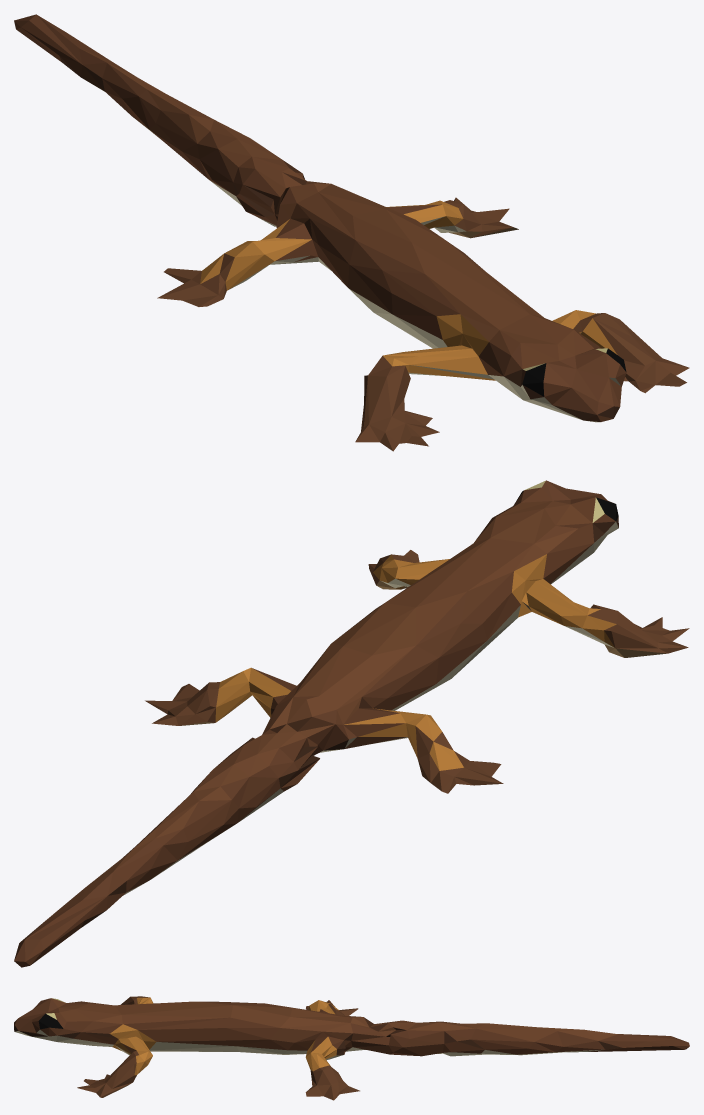
Rendered from ensatina.glb.
The picture shows the model from 3 angles, top to bottom: view 1: azimuth 30°, elevation 25°; view 2: azimuth 150°, elevation 25°; view 3: azimuth 270°, elevation 25°; orthographic projection. The views are drawn at different scales.
Visible parts, largest first — view 1: lod0; view 2: lod0; view 3: lod0.
Boxes of the visible parts, left/top/right/bottom form: lod0: left=14, top=14, right=689, bottom=451; lod0: left=14, top=480, right=689, bottom=967; lod0: left=14, top=996, right=689, bottom=1100.
Size of what is drawn, in the model's own units: 0.0392 by 0.00886 by 0.1115.
